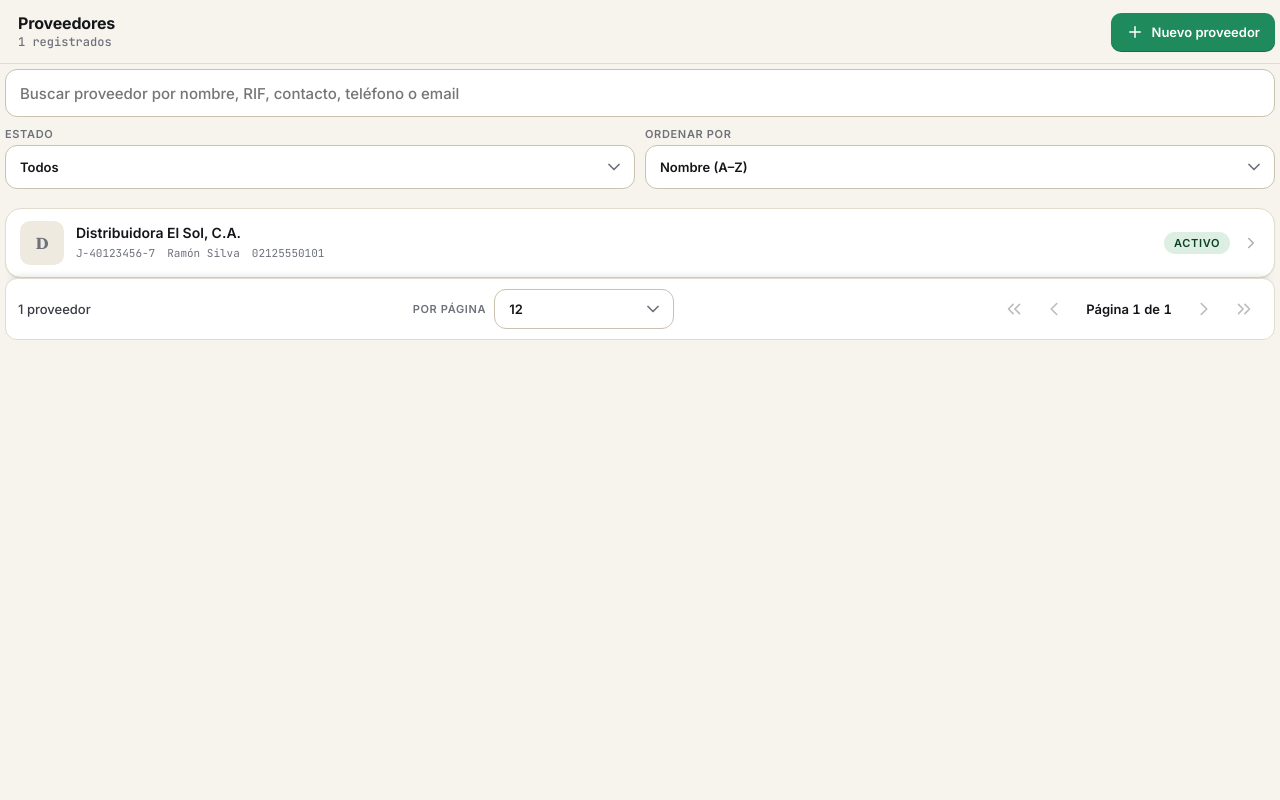
Registrar compra — the two amount fields mirror each other › the purchase cannot be saved without products and an amount
Click the text "Distribuidora El Sol, C.A." at (42, 243), box x1=6 y1=209 x2=1274 y2=277
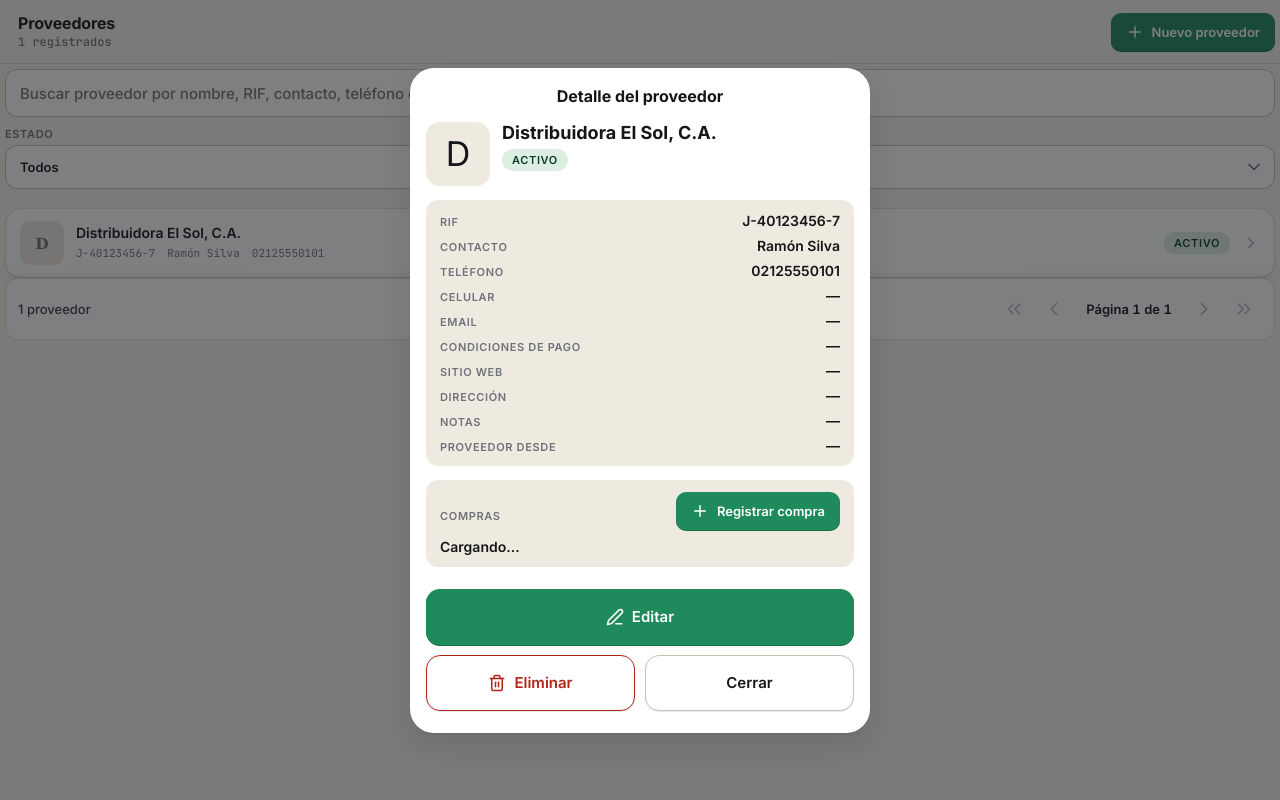
Click the button "Registrar compra" at (758, 510), box x1=676 y1=492 x2=840 y2=530
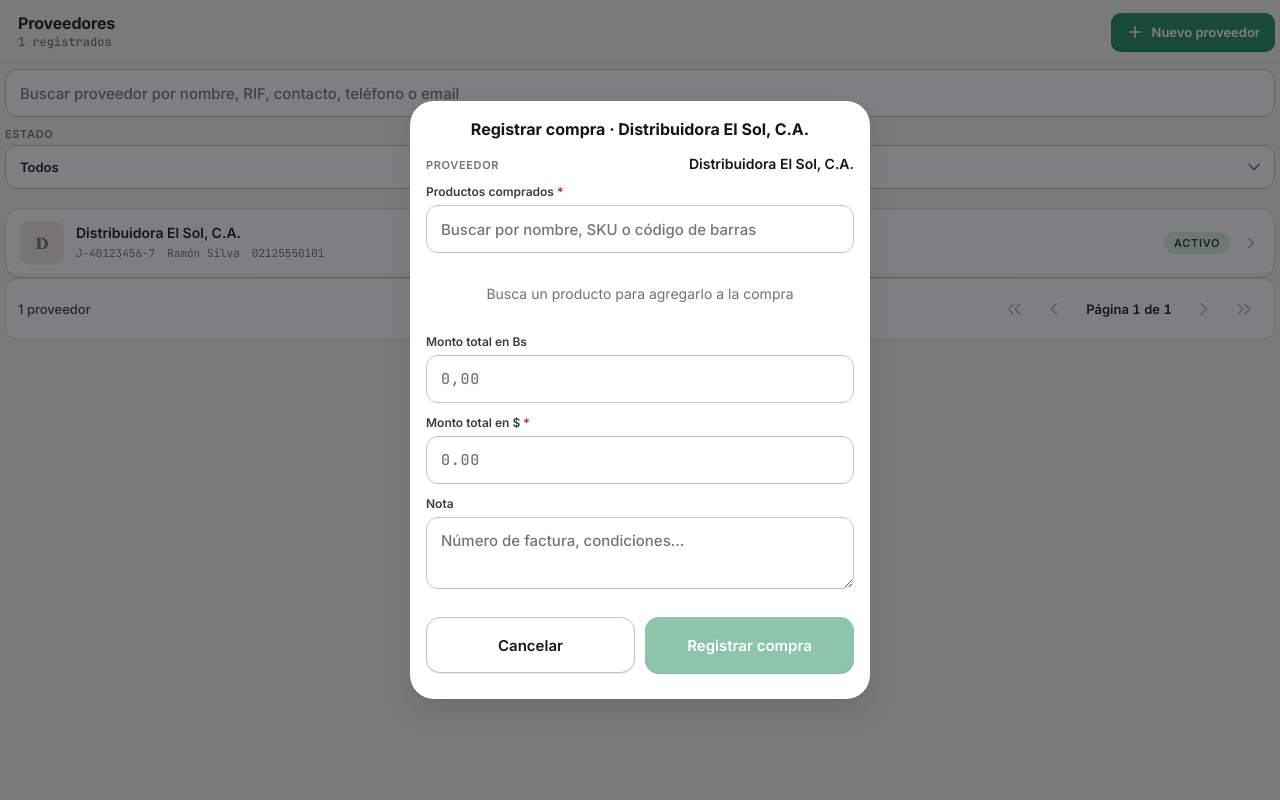
Expected: the button "Registrar compra" is disabled, x1=645 y1=617 x2=854 y2=673
Type "coca" into the field with placeholder "Buscar por nombre, SKU o código de barras" at (640, 229), box x1=426 y1=205 x2=854 y2=253
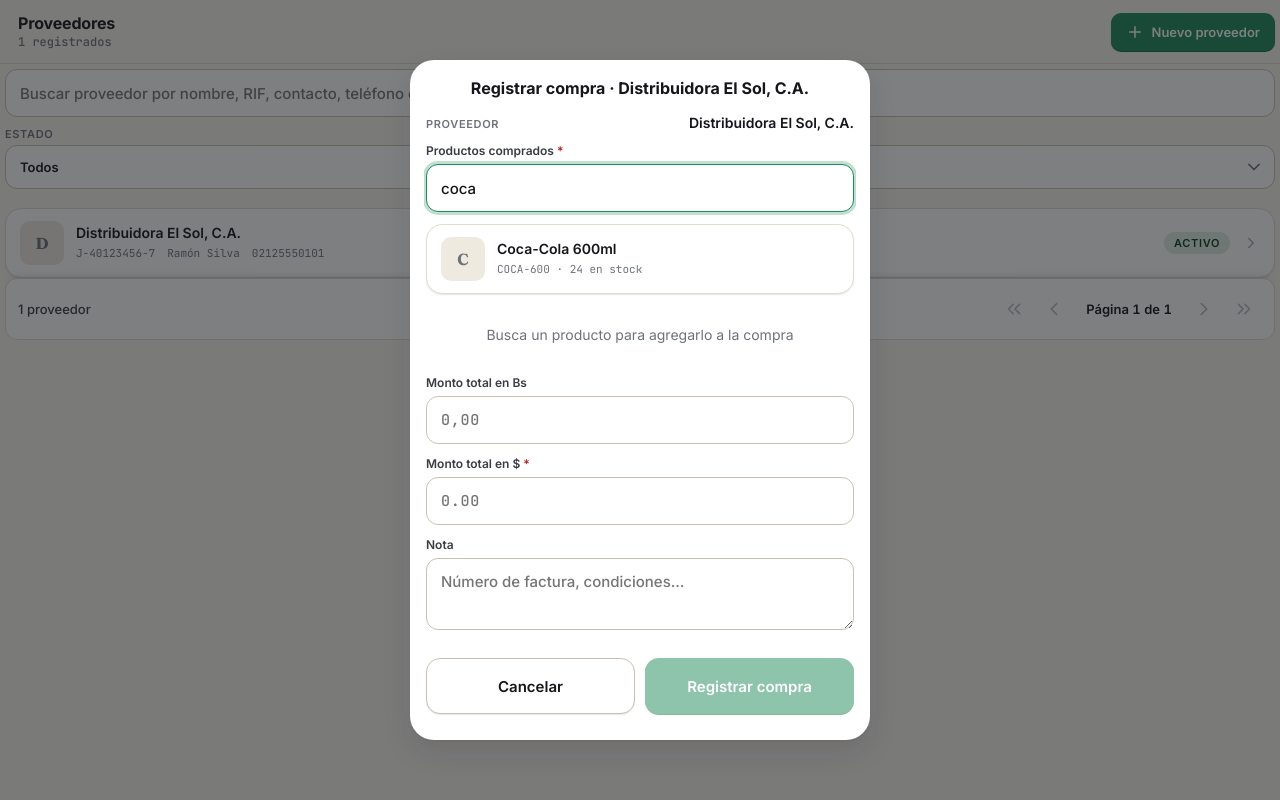
Click the text "Coca-Cola 600ml" at (542, 259), box x1=441 y1=237 x2=642 y2=281
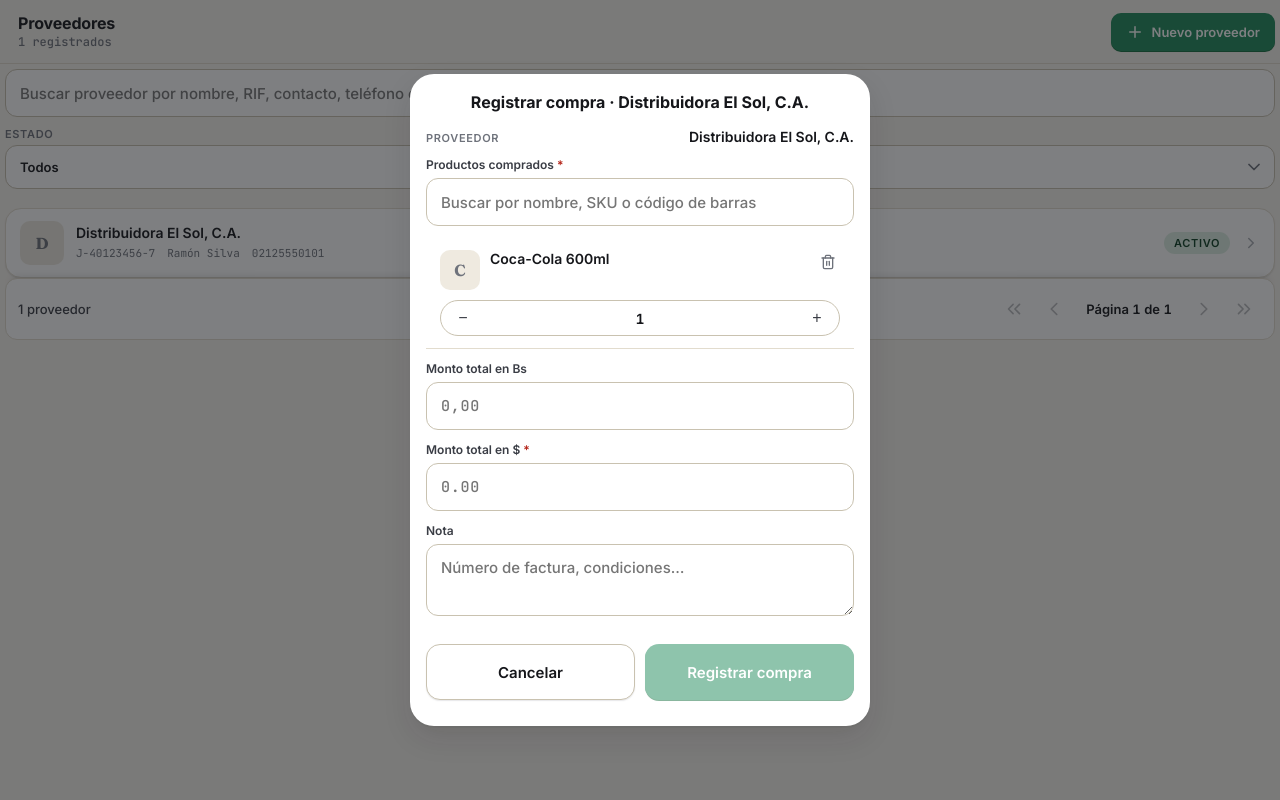
Expected: the button "Registrar compra" is disabled, x1=645 y1=644 x2=854 y2=700
Type "25" into the field labelled "Monto total en $ *" at (640, 487), box x1=426 y1=463 x2=854 y2=511
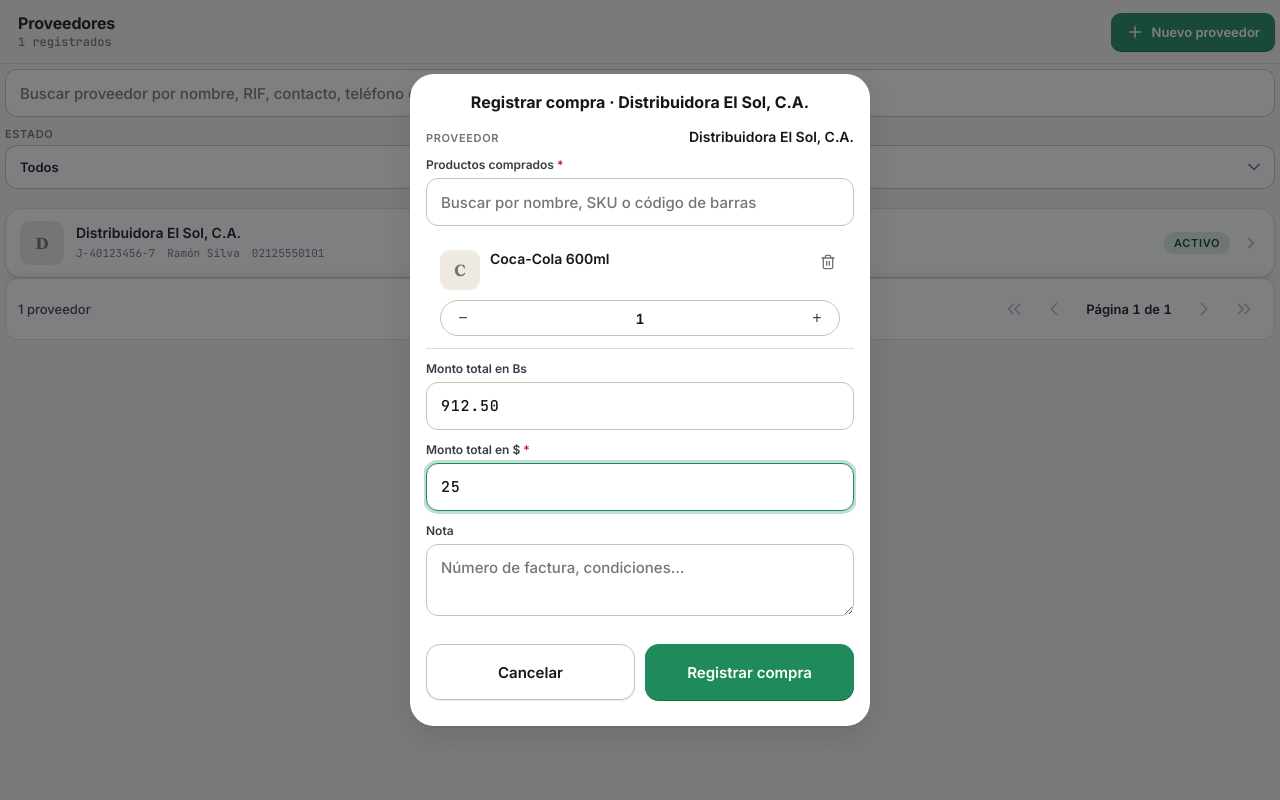
Expected: the button "Registrar compra" is enabled, x1=645 y1=644 x2=854 y2=700
